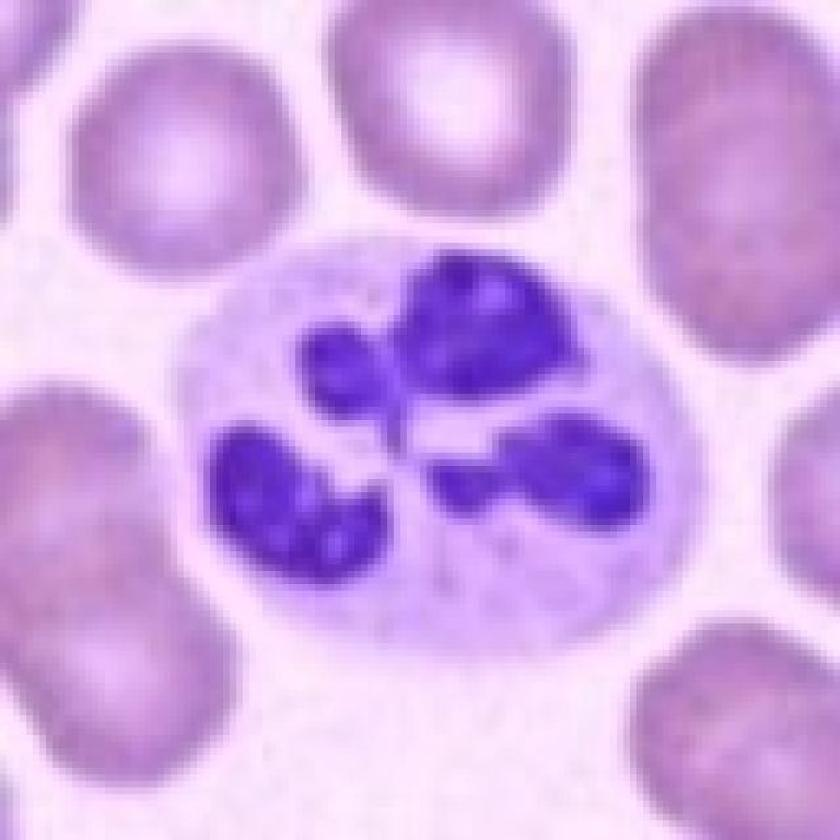neutrophil: (57, 195, 752, 681)
